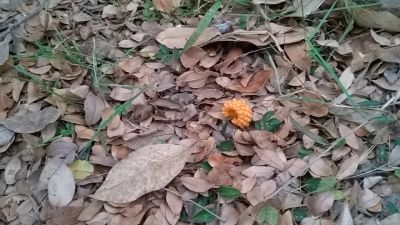eggs: (222, 98, 254, 128)
